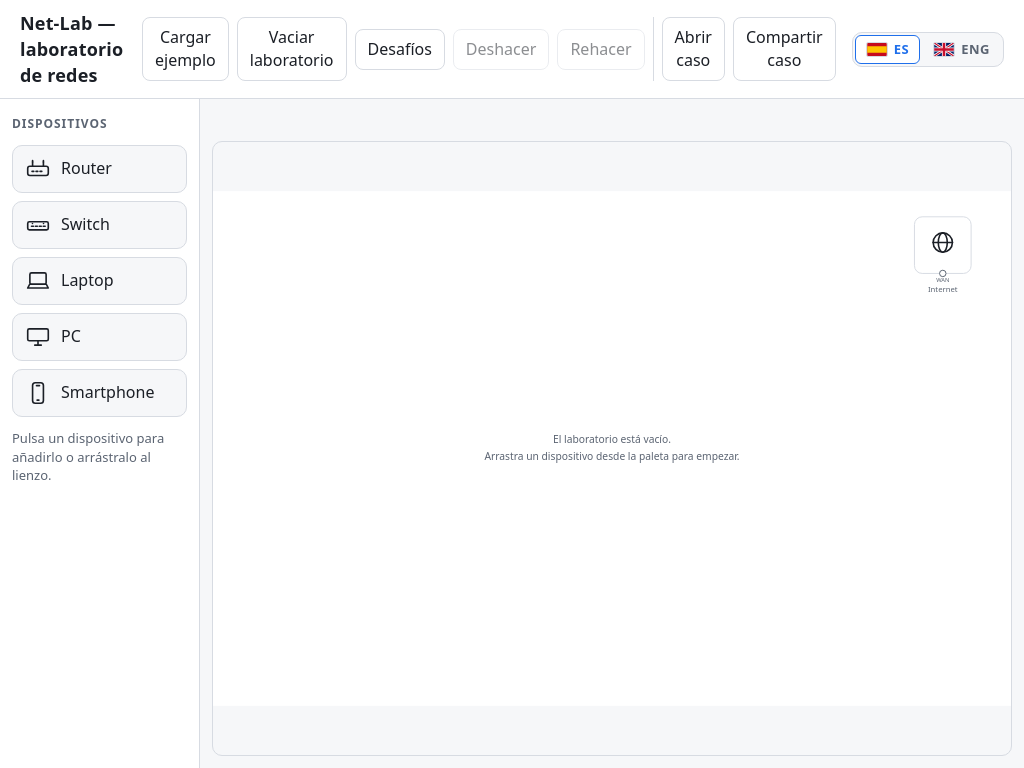
Test case: entering a level (S68, S69) › loads the initial lab of the level, shows its goals and remembers where it left off
Step 1. Click the button "Desafíos" → (400, 49), box top-left (354, 28), bottom-right (445, 70)
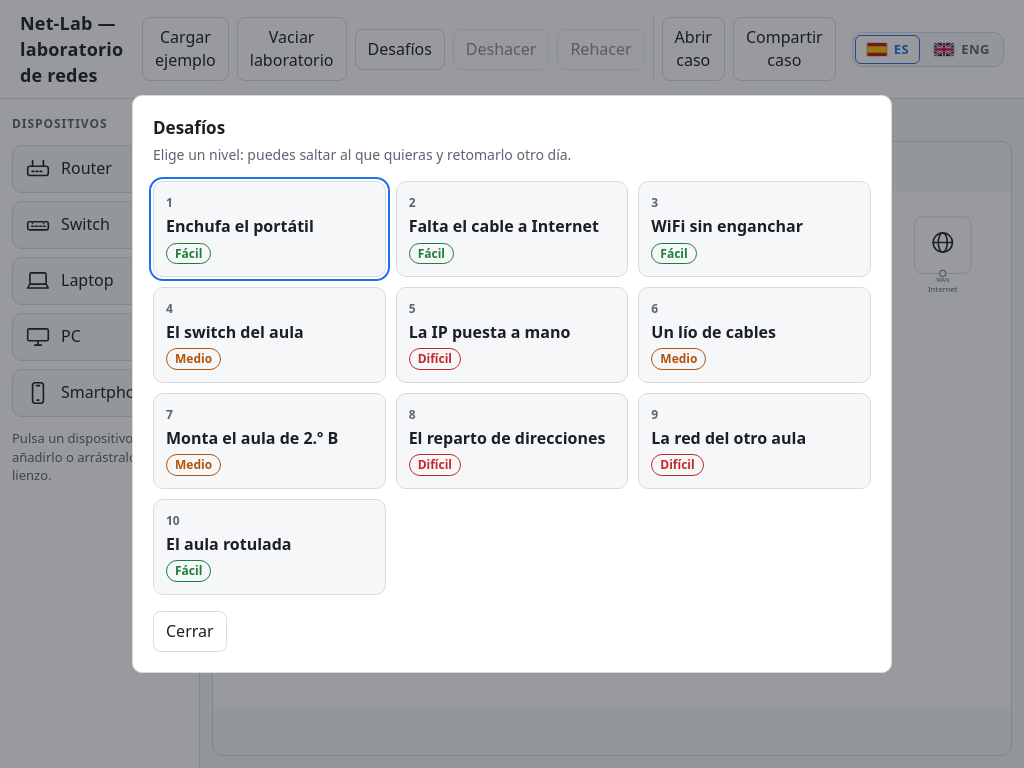
Step 2. Click the button "1 Enchufa el portátil Fácil" → (269, 229), box top-left (153, 181), bottom-right (386, 277)
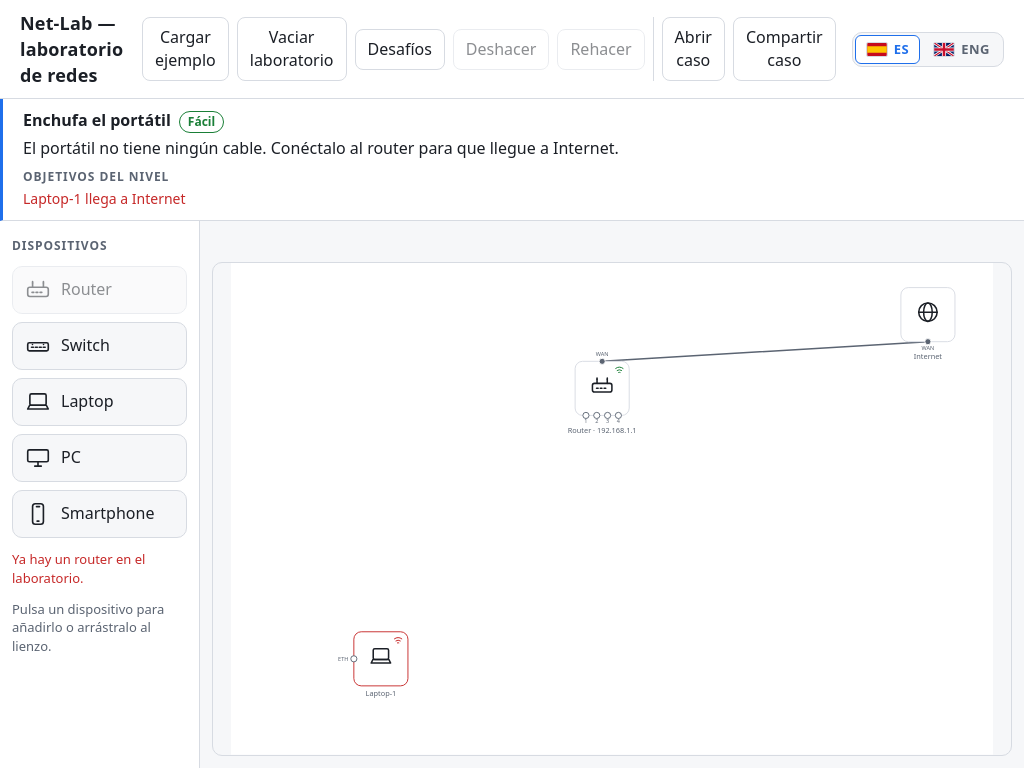
Now the heading "Enchufa el portátil" is shown, box top-left (23, 109), bottom-right (171, 132)
Now the dialog is gone
Now the text "El portátil no tiene ningún cable. Conéctalo al router para que llegue a Internet." is shown, box top-left (23, 137), bottom-right (619, 159)
